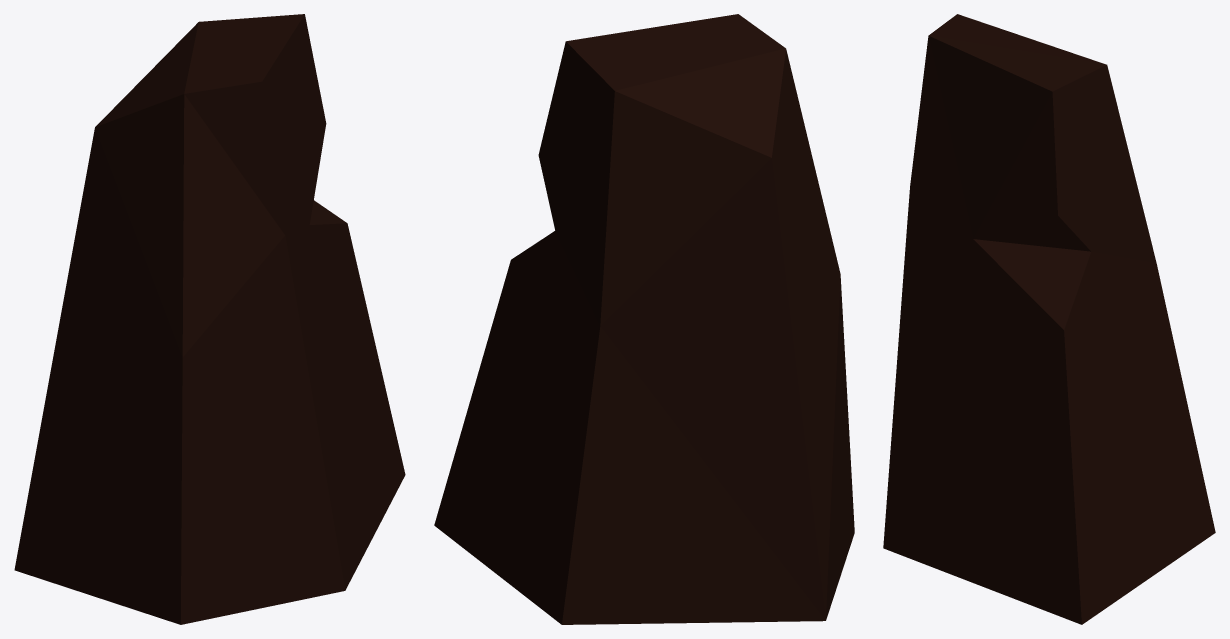
Rendered from TreeStump2.fbx.glb.
3 renders of one model, left to right at view 1: azimuth 30°, elevation 25°; view 2: azimuth 150°, elevation 25°; view 3: azimuth 270°, elevation 25°, orthographic. The views are drawn at different scales.
Visible parts, largest first — view 1: TreeStump2; view 2: TreeStump2; view 3: TreeStump2.
Part boxes in pixels (x1,y1,x2,y2): TreeStump2: [14, 14, 405, 624]; TreeStump2: [434, 14, 854, 624]; TreeStump2: [883, 14, 1215, 624].
Size of the model in its own units: 93.45 by 116 by 71.86.
